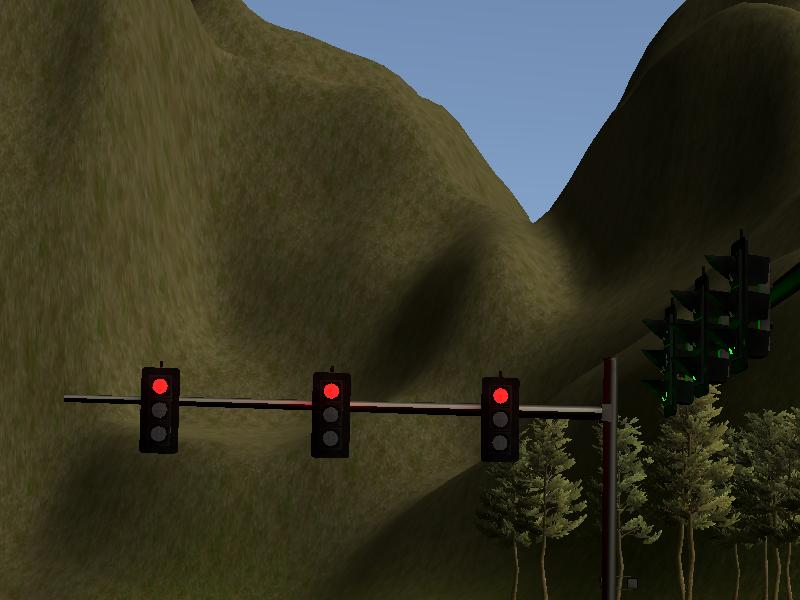red: (139, 366, 181, 455), (480, 375, 521, 463), (311, 371, 352, 458)
